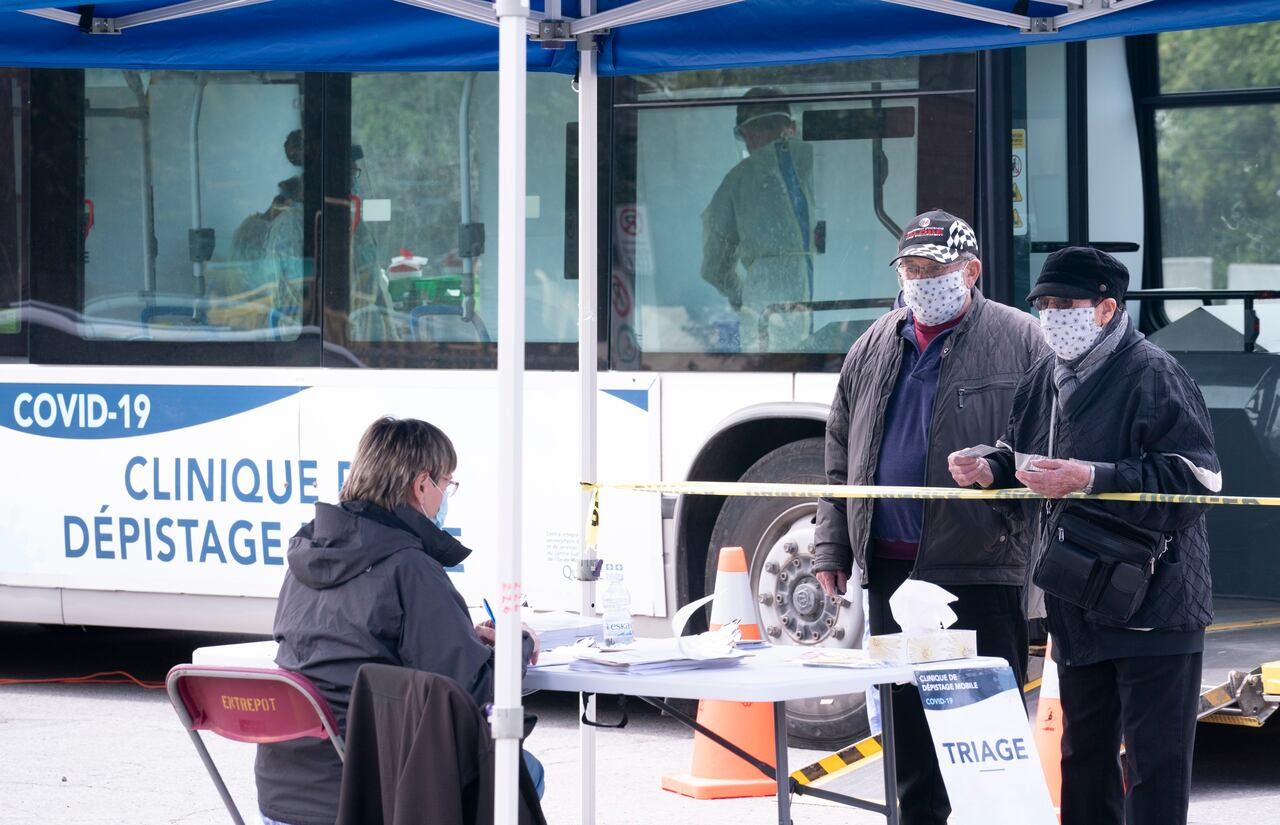with_mask: (896, 252, 980, 329), (1034, 291, 1122, 364), (408, 458, 460, 535)
